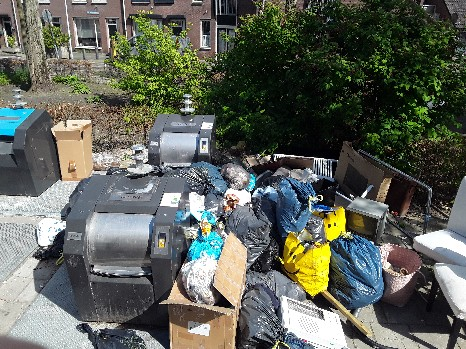Container: (84, 180, 178, 311), (1, 110, 49, 185), (152, 118, 211, 166)
Papier: (183, 295, 253, 349), (54, 112, 92, 188)
Rest: (349, 144, 438, 252), (285, 248, 356, 349), (316, 187, 384, 269), (188, 169, 252, 241), (224, 144, 292, 205), (413, 235, 466, 313), (388, 236, 437, 320), (283, 145, 345, 211), (188, 235, 255, 294), (251, 187, 305, 258), (441, 184, 466, 276), (264, 294, 304, 344), (117, 150, 164, 182), (202, 174, 229, 197)
